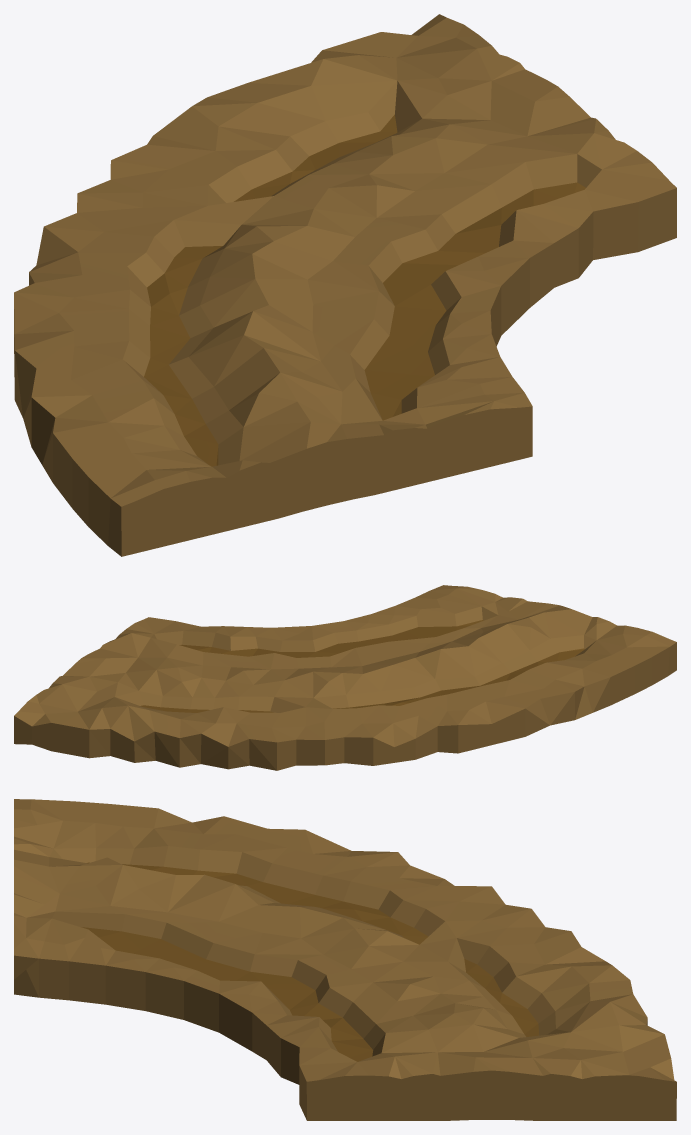
Rendered from Road_Turn_01.fbx.
3 renders of one model, top to bottom at view 1: azimuth 30°, elevation 25°; view 2: azimuth 150°, elevation 25°; view 3: azimuth 270°, elevation 25°, orthographic. The views are drawn at different scales.
Parts seen in each view (by area): view 1: Road_Turn_01; view 2: Road_Turn_01; view 3: Road_Turn_01.
Part boxes in pixels (x1,y1,x2,y2): Road_Turn_01: (14, 14, 676, 556); Road_Turn_01: (14, 585, 676, 770); Road_Turn_01: (14, 799, 676, 1120).
Bounding box in the file's own units: 359 × 35.7 × 356.
